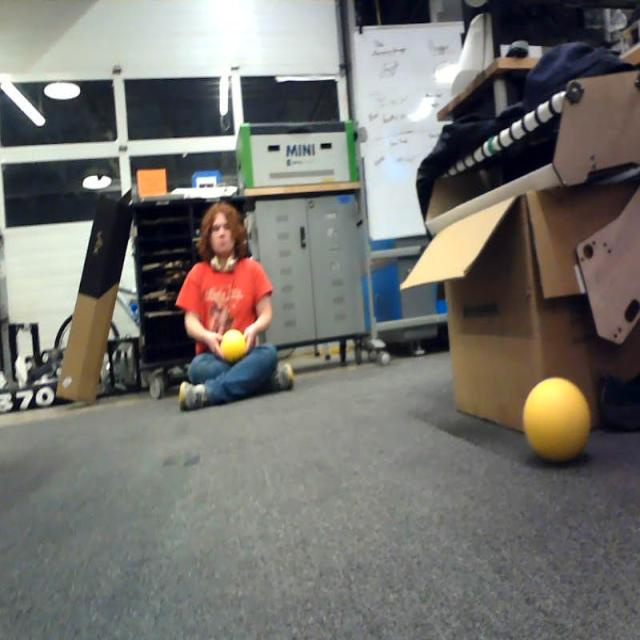Fuel: (524, 377, 590, 465), (220, 329, 247, 364)
